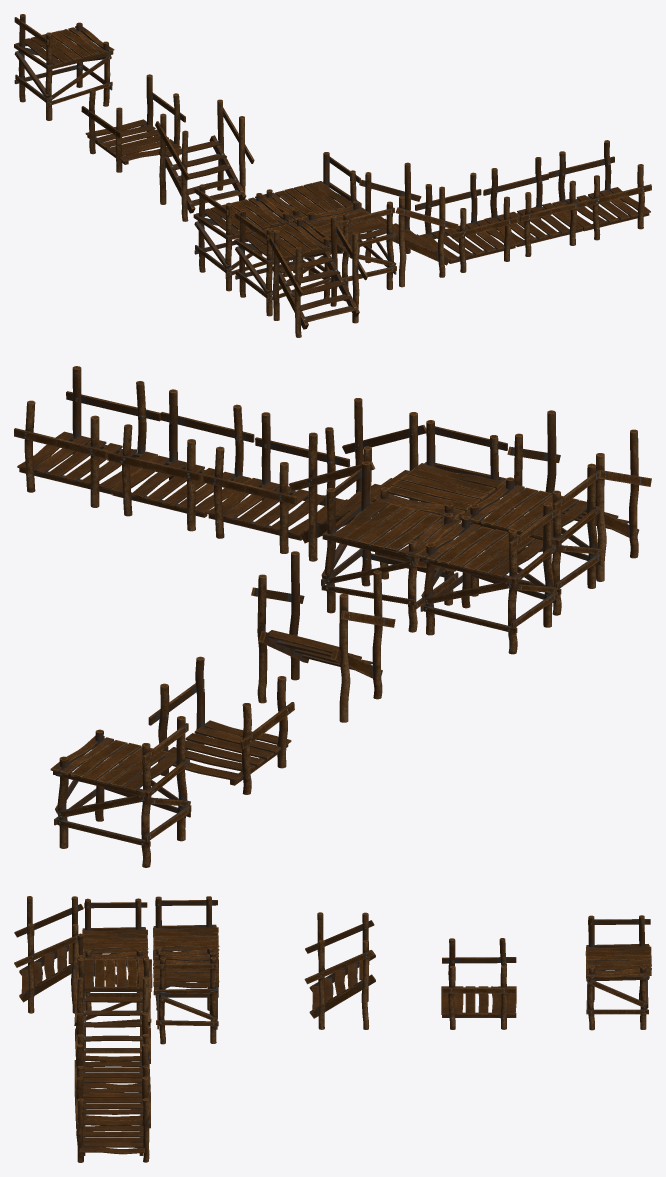
The model's file is wooden_pier_22_mb.glb.
The picture shows the model from 3 angles, top to bottom: view 1: azimuth 30°, elevation 25°; view 2: azimuth 150°, elevation 25°; view 3: azimuth 270°, elevation 25°; orthographic projection. The views are drawn at different scales.
Visible parts, largest first — view 1: base, 02_02_0, 01_3_01_0, 01_2_01_0, 03_03_0, 03_1_03_0, 03_2_03_0, 01_1_01_0, 02_1_02_0, 01_01_0; view 2: base, 01_2_01_0, 01_01_0, 03_1_03_0, 03_03_0, 03_2_03_0, 01_3_01_0, 01_1_01_0, 02_1_02_0, 02_02_0; view 3: base, 01_01_0, 02_02_0, 03_1_03_0, 01_3_01_0, 02_1_02_0, 01_2_01_0, 01_1_01_0, 03_03_0, 03_2_03_0.
Part boxes in pixels (<box>): base: <box>14,14,254,221</box>; 02_02_0: <box>268,215,367,337</box>; 01_3_01_0: <box>234,209,331,316</box>; 01_2_01_0: <box>193,184,293,291</box>; 03_03_0: <box>483,157,586,256</box>; 03_1_03_0: <box>548,140,651,240</box>; 03_2_03_0: <box>415,172,518,272</box>; 01_1_01_0: <box>302,201,396,301</box>; 02_1_02_0: <box>359,162,458,287</box>; 01_01_0: <box>262,152,361,273</box>; base: <box>50,551,395,867</box>; 01_2_01_0: <box>417,502,557,654</box>; 01_01_0: <box>321,461,461,632</box>; 03_1_03_0: <box>14,366,160,507</box>; 03_03_0: <box>107,389,254,531</box>; 03_2_03_0: <box>203,412,350,553</box>; 01_3_01_0: <box>461,463,601,615</box>; 01_1_01_0: <box>373,420,507,591</box>; 02_1_02_0: <box>289,398,426,569</box>; 02_02_0: <box>507,410,651,581</box>; base: <box>304,912,651,1030</box>; 01_01_0: <box>153,952,219,1044</box>; 02_02_0: <box>14,896,83,1013</box>; 03_1_03_0: <box>75,1076,150,1162</box>; 01_3_01_0: <box>82,898,148,1010</box>; 02_1_02_0: <box>74,958,151,1055</box>; 01_2_01_0: <box>153,896,219,1010</box>; 01_1_01_0: <box>73,934,152,1026</box>; 03_03_0: <box>74,1044,150,1120</box>; 03_2_03_0: <box>75,1012,150,1088</box>.
Size of the model in its own units: 11.5 by 2.5 by 16.56.
Materials: 3 (3 with a texture image).
